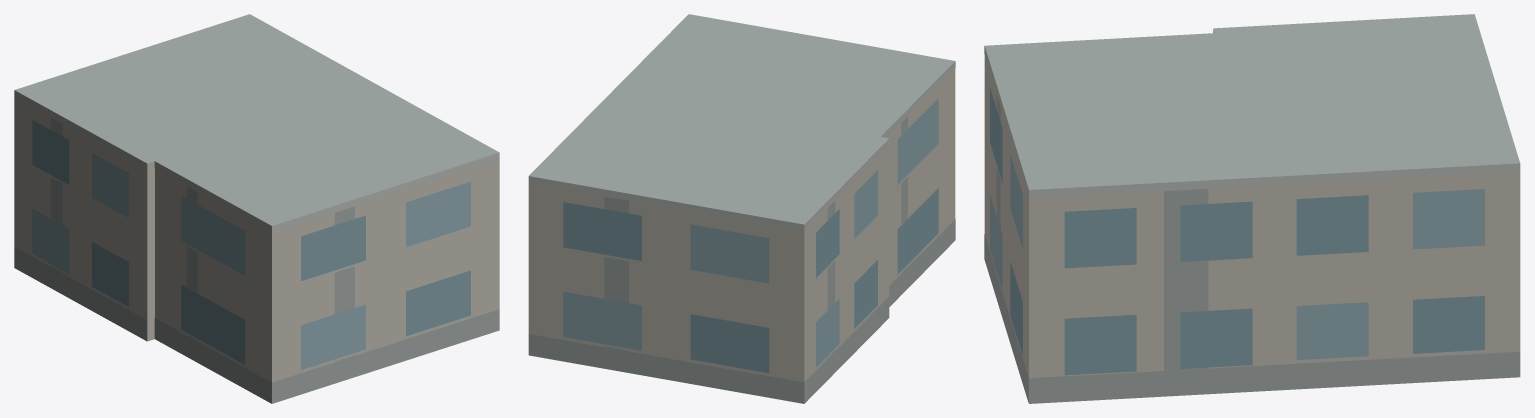
The model's file is residential-79c004c3-6544-44ce-9f2e-64cef8a7d69e.glb.
The picture shows the model from 3 angles, left to right: view 1: azimuth 30°, elevation 25°; view 2: azimuth 150°, elevation 25°; view 3: azimuth 270°, elevation 25°; orthographic projection. The views are drawn at different scales.
Visible parts, largest first — view 1: residential-79c004c3-6544-44ce-9f2e-64cef8a7d69e.tmp; view 2: residential-79c004c3-6544-44ce-9f2e-64cef8a7d69e.tmp; view 3: residential-79c004c3-6544-44ce-9f2e-64cef8a7d69e.tmp.
Part boxes in pixels (x1,y1,x2,y2): residential-79c004c3-6544-44ce-9f2e-64cef8a7d69e.tmp: [14, 14, 499, 403]; residential-79c004c3-6544-44ce-9f2e-64cef8a7d69e.tmp: [528, 14, 955, 403]; residential-79c004c3-6544-44ce-9f2e-64cef8a7d69e.tmp: [984, 14, 1520, 403].
Size of the model in its own units: 10.78 by 6.1 by 13.86.
